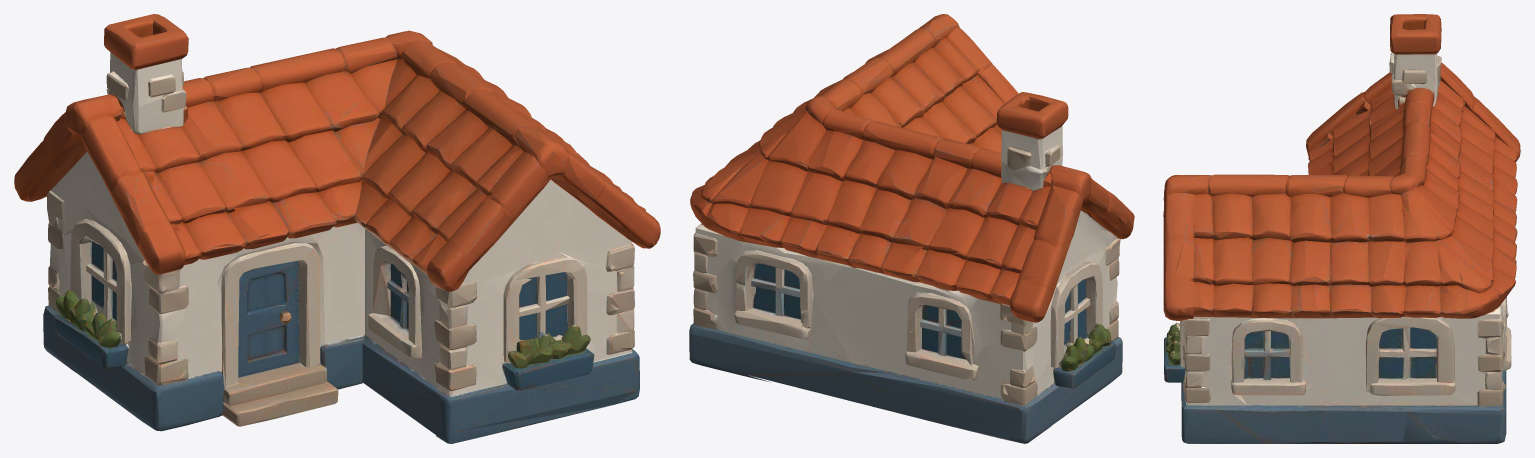
Rendered from model-village-cornerHouse-18754011ce88.glb.
3 views of the same model, side by side, from view 1: azimuth 30°, elevation 25°; view 2: azimuth 150°, elevation 25°; view 3: azimuth 270°, elevation 25° (orthographic). The views are drawn at different scales.
Visible parts, largest first — view 1: Mesh_0; view 2: Mesh_0; view 3: Mesh_0.
Part boxes in pixels (x1,y1,x2,y2): Mesh_0: (14, 14, 660, 443); Mesh_0: (689, 14, 1134, 443); Mesh_0: (1163, 14, 1520, 443).
Size of the model in its own units: 3.2 by 2.41 by 2.75.
1 material, 1 textured.
